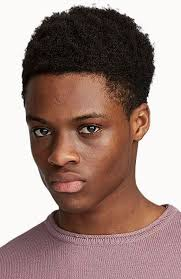person: (18, 7, 157, 216)
